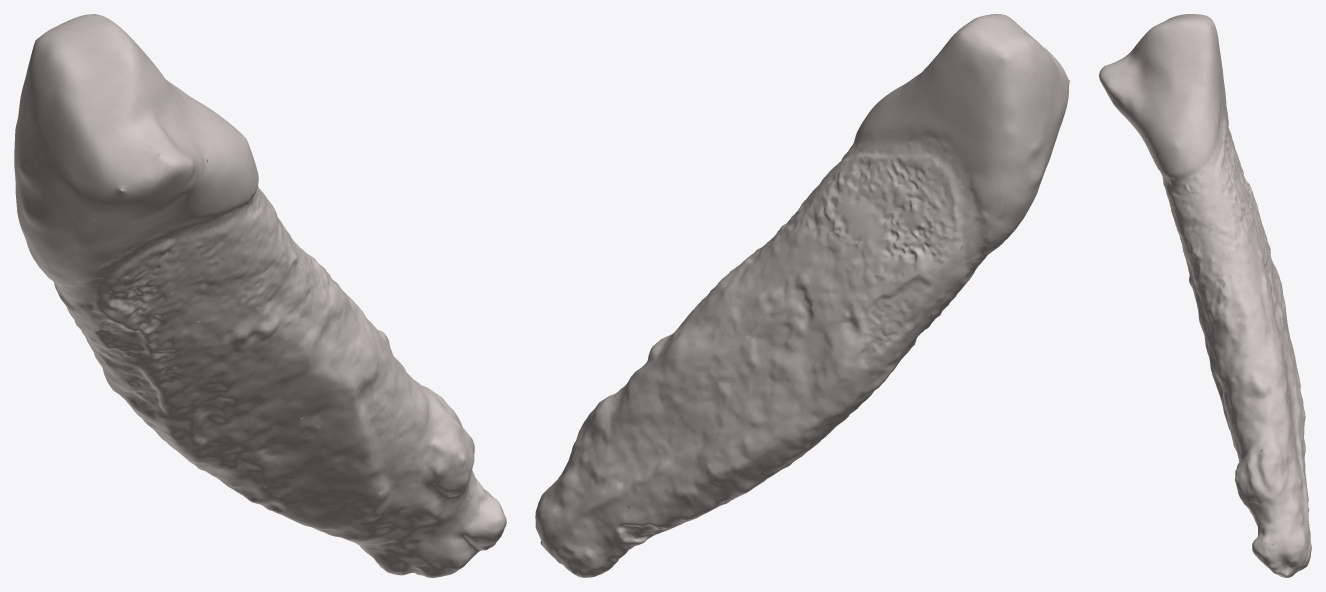
3 renders of one model, left to right at view 1: azimuth 30°, elevation 25°; view 2: azimuth 150°, elevation 25°; view 3: azimuth 270°, elevation 25°, orthographic. The views are drawn at different scales.
Visible parts, largest first — view 1: I2_li_unten_Hund_2.001; view 2: I2_li_unten_Hund_2.001; view 3: I2_li_unten_Hund_2.001.
Part boxes in pixels (x1,y1,x2,y2): I2_li_unten_Hund_2.001: (14,14,506,577); I2_li_unten_Hund_2.001: (535,14,1070,577); I2_li_unten_Hund_2.001: (1099,14,1311,577).
Bounding box in the file's own units: 1299 × 1633 × 729.
Materials: 1 (1 with a texture image).
